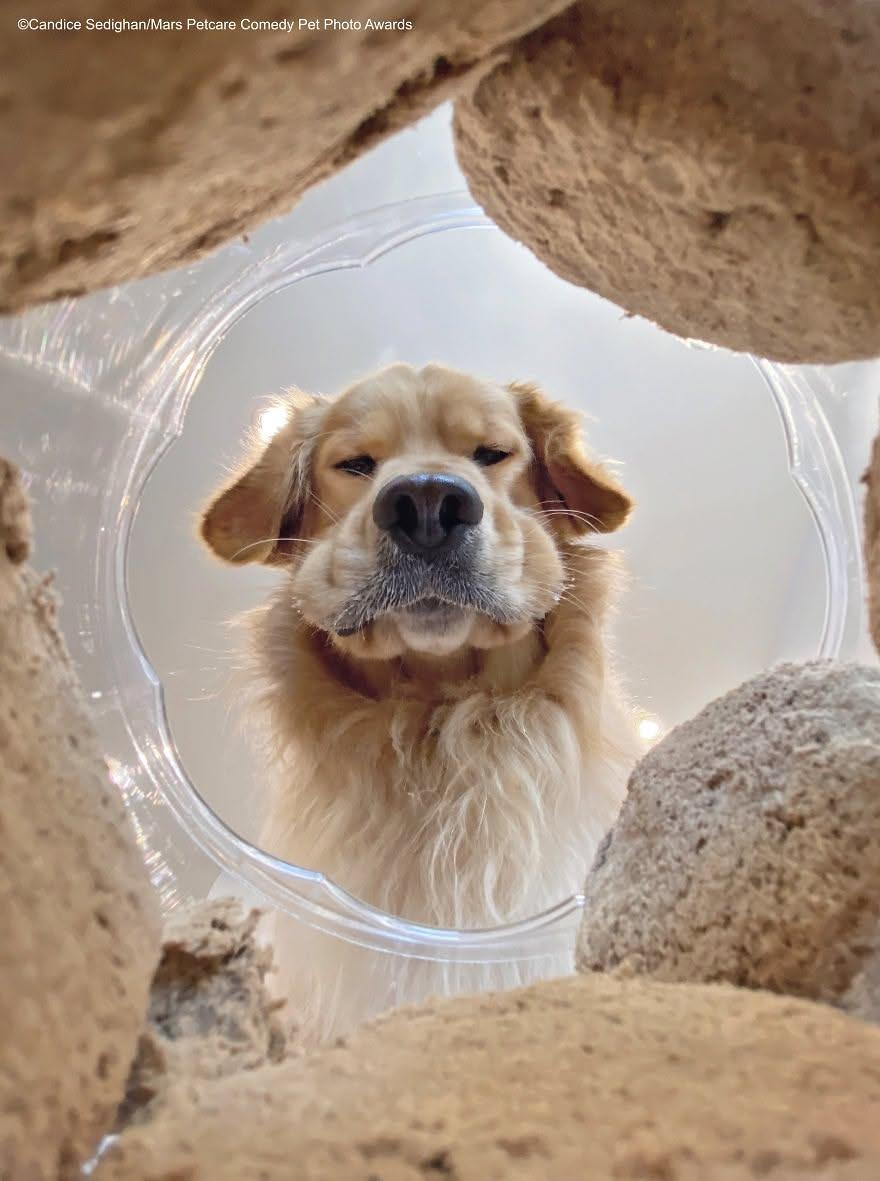adult_dog: (196, 363, 640, 1054)
